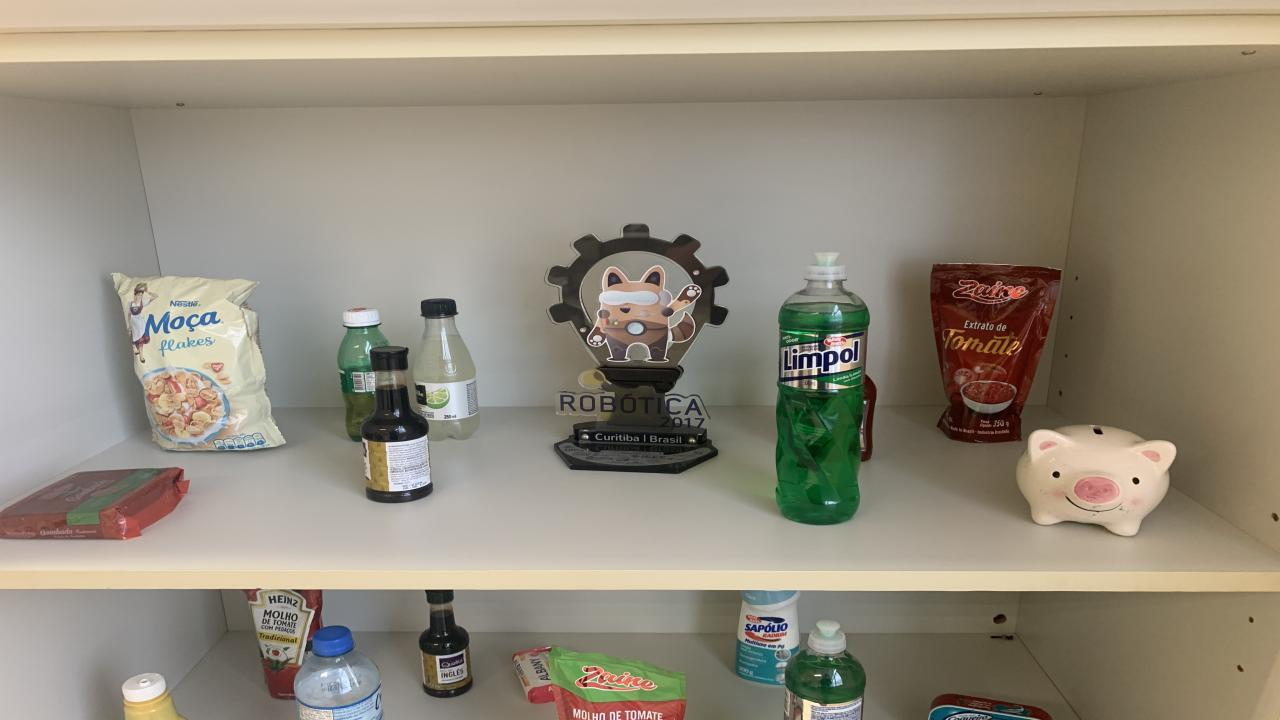Cleaner-Cleanup_Items: (735, 591, 800, 684)
Detergent-Cleanup_Items: (775, 253, 870, 525), (785, 621, 865, 720)
English_Sauce-Pantry_Items: (360, 347, 432, 502), (418, 591, 472, 698)
Flakes-Snacks: (112, 274, 285, 450)
Guarana-Drinks: (338, 308, 388, 442)
Guava-Snacks: (0, 467, 190, 540)
Ketchup-Pantry_Items: (860, 375, 878, 461)
Mustard-Pantry_Items: (122, 673, 185, 720)
Pig_Safe-Miscellaneous: (1018, 426, 1178, 536)
Soap-Cleanup_Items: (512, 647, 555, 703)
Soda-Drinks: (412, 298, 480, 441)
Tomato_Sauce-Pantry_Items: (930, 264, 1062, 442), (550, 647, 685, 720), (245, 589, 322, 699)
Trophy-Miscellaneous: (545, 223, 728, 472)
Tuna_Can-Pantry_Items: (928, 694, 1050, 720)
Water_Bottle-Drinks: (295, 626, 382, 720)
